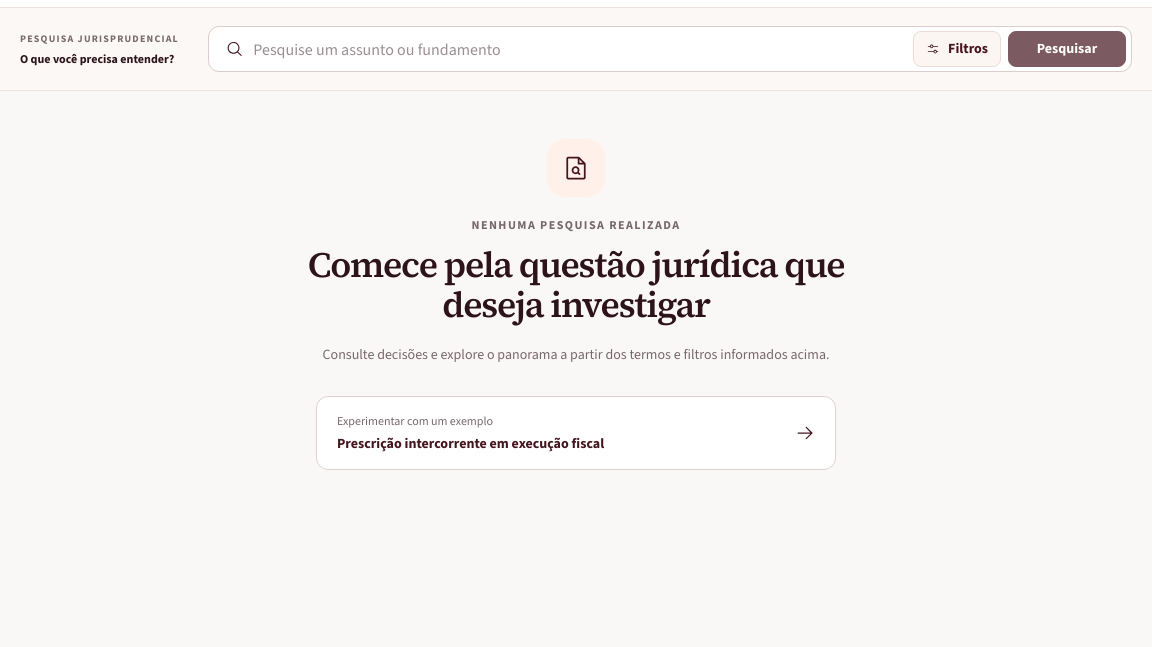
Scenario: keeps the coverage warning visible and identifies a single period
Type "prescrição intercorrente em execução fiscal" into the search field named "Pesquisar decisões" at [578, 49], box [253,31,903,67]
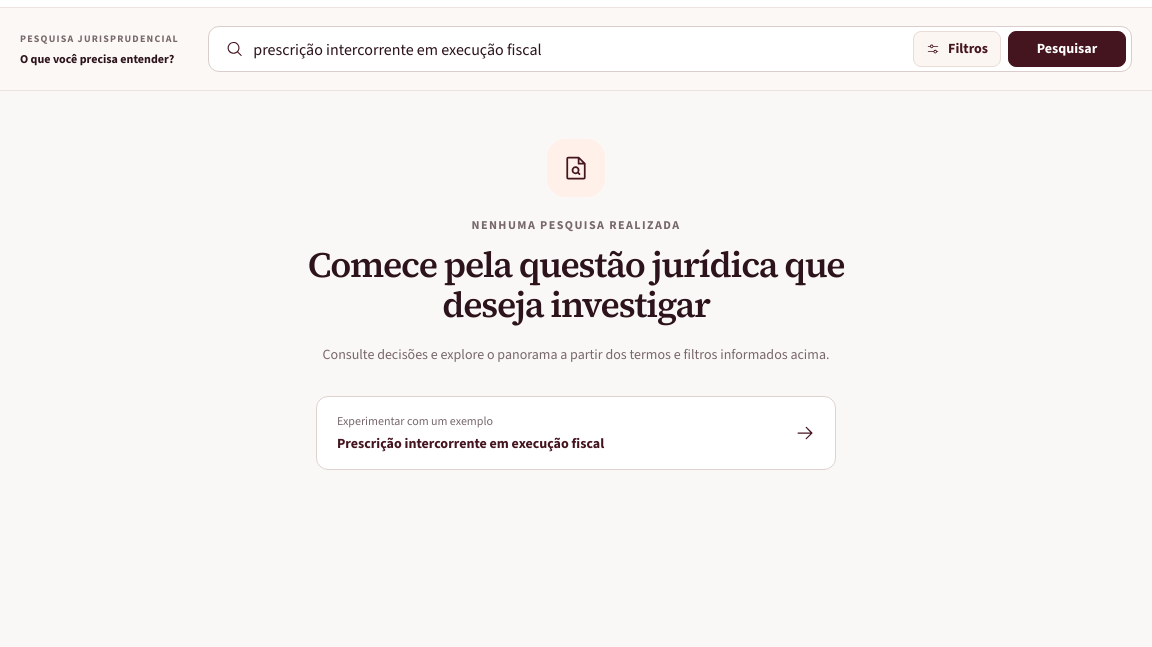
Click the button "Pesquisar" at [1067, 49], box [1008,31,1126,67]
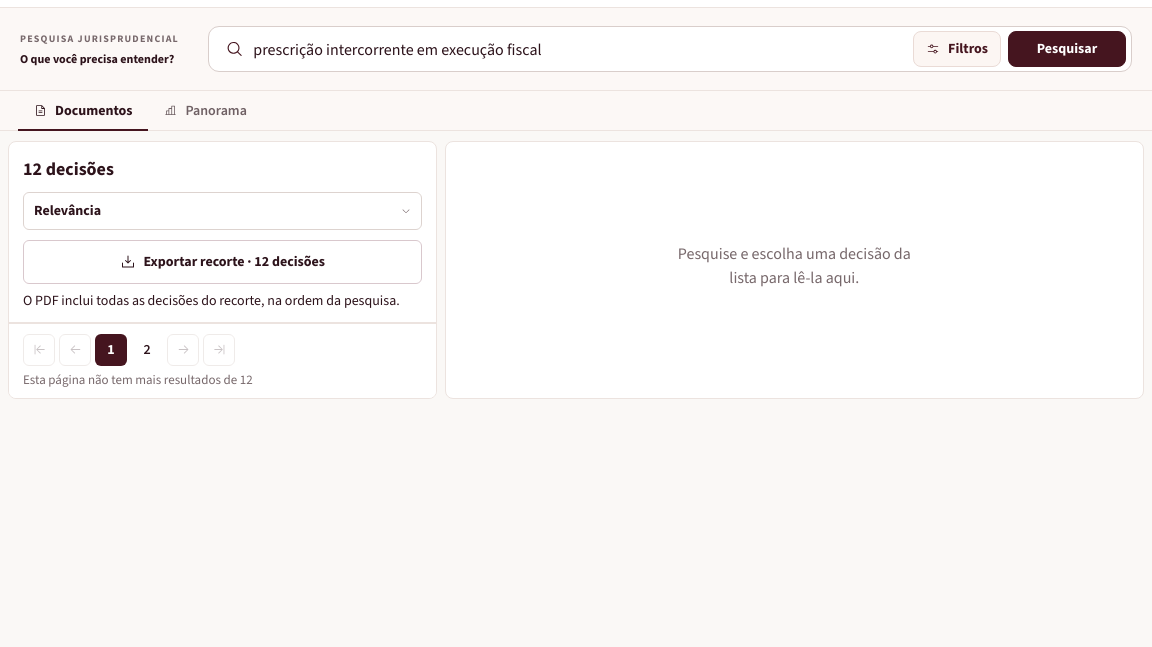
Click the tab "Panorama" at [206, 111], box [148,91,263,130]
(page scrolled)
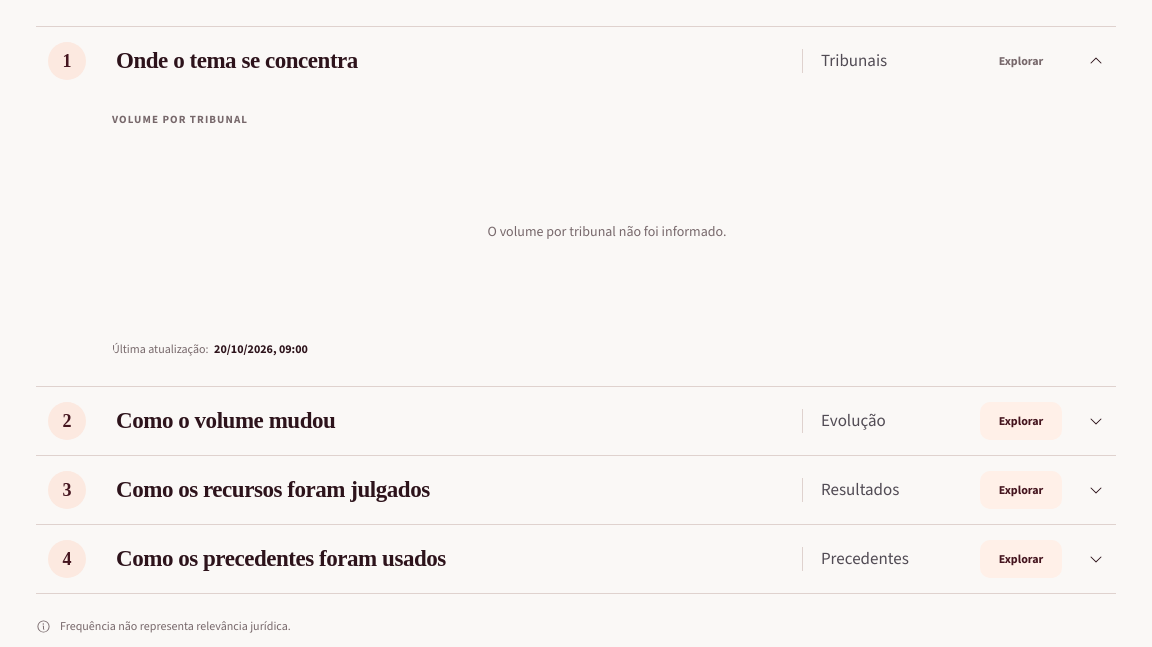
Click the button "2 Como o volume mudou Evolução Explorar" at [67, 421], box [36,387,1116,455]
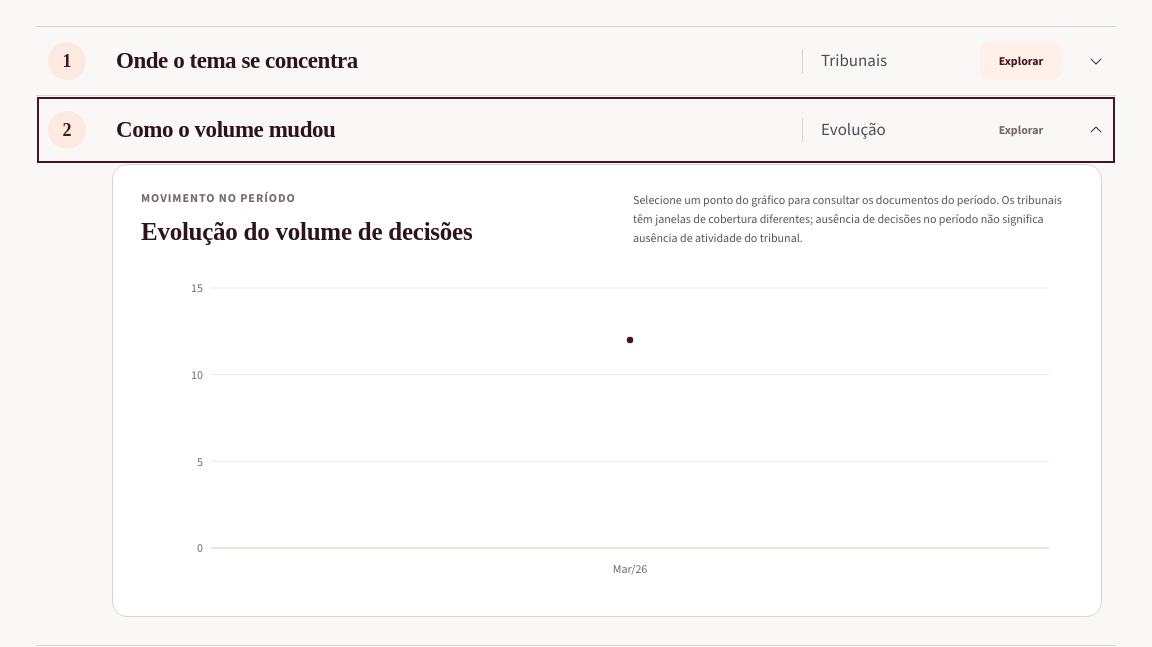
Check: the element with class "recharts-area-dot" is shown, box [626,336,634,344]
Check: the text "Os tribunais têm janelas de cobertura diferentes" is shown, box [633,192,1062,246]
